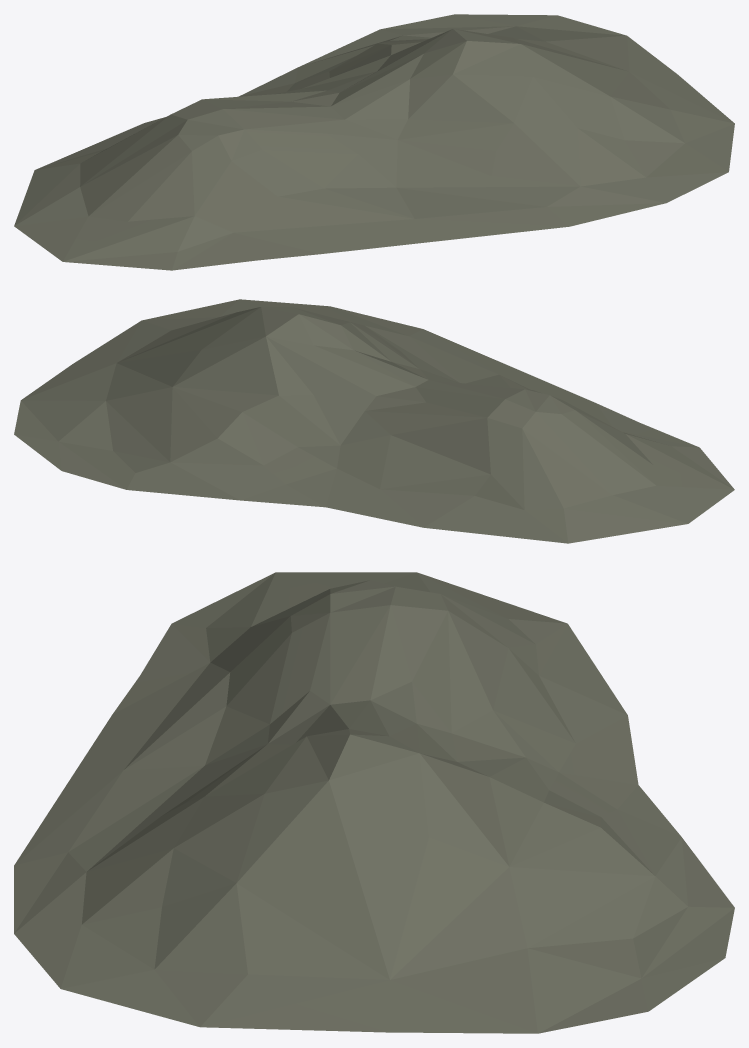
File: ancient_SM_Generic_Ground_Hill_02.gltf
3 views of the same model, one above another, from view 1: azimuth 30°, elevation 25°; view 2: azimuth 150°, elevation 25°; view 3: azimuth 270°, elevation 25° (orthographic). The views are drawn at different scales.
Visible parts, largest first — view 1: SM_Generic_Ground_Hill_02; view 2: SM_Generic_Ground_Hill_02; view 3: SM_Generic_Ground_Hill_02.
Boxes of the visible parts, box(x1,y1,x2,y2) form: SM_Generic_Ground_Hill_02: box(14, 14, 734, 270); SM_Generic_Ground_Hill_02: box(14, 299, 734, 543); SM_Generic_Ground_Hill_02: box(14, 572, 734, 1033).
Size of the model in its own units: 33.64 by 4.78 by 22.21.
1 material, 1 textured.
